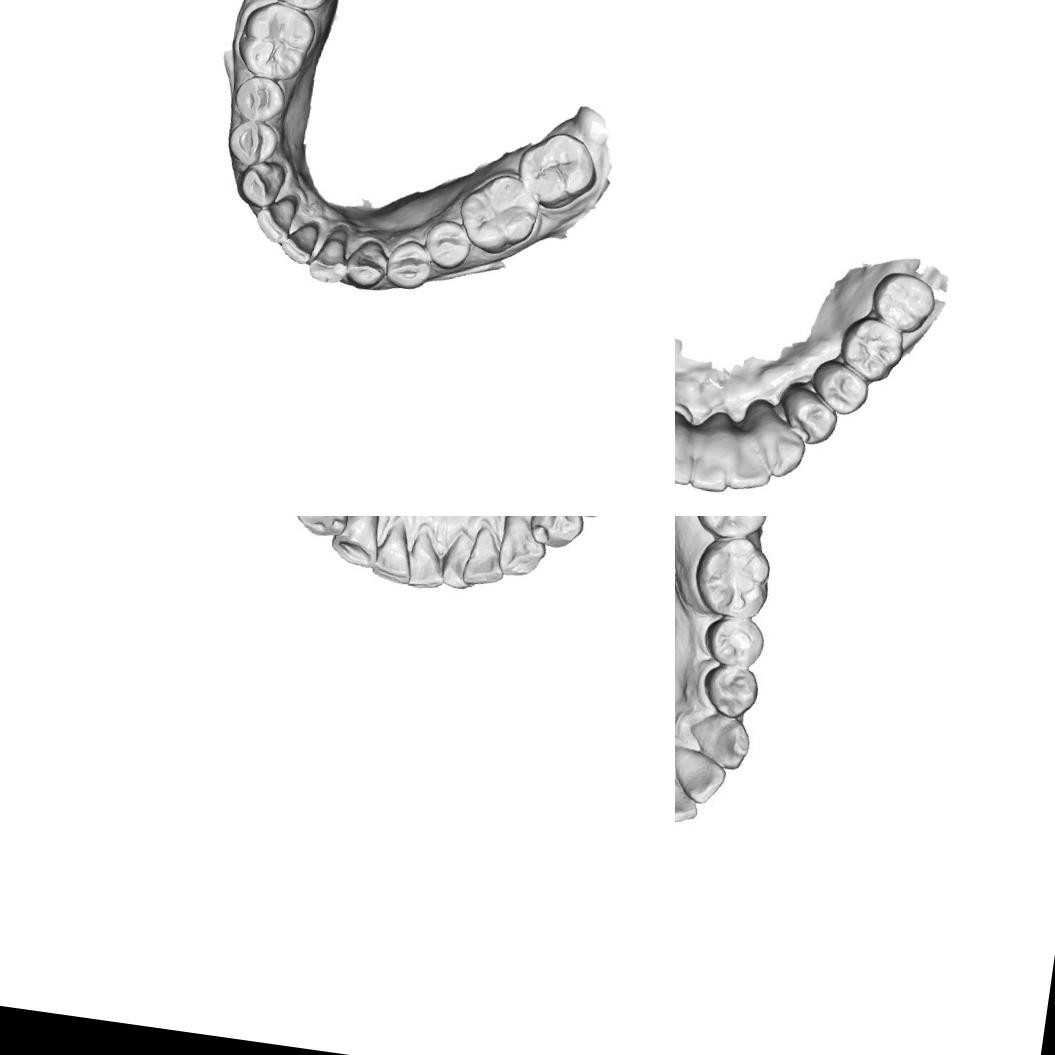canine: (743, 417, 811, 483), (687, 710, 755, 773), (493, 516, 552, 583), (326, 516, 388, 572), (236, 158, 292, 212), (345, 234, 395, 294)
incisor: (724, 418, 778, 496), (686, 422, 736, 494), (368, 520, 419, 586), (305, 220, 353, 289), (459, 525, 509, 590), (675, 747, 728, 808), (436, 524, 482, 594), (403, 528, 450, 594), (274, 214, 326, 272), (250, 192, 302, 248), (675, 409, 702, 487), (675, 763, 704, 828)
molar: (452, 168, 548, 261), (511, 126, 600, 214), (690, 534, 776, 624), (235, 0, 315, 81), (835, 312, 909, 386), (866, 266, 942, 338), (687, 516, 771, 545)
premolar: (776, 382, 842, 450), (806, 355, 874, 420), (698, 659, 764, 721), (702, 612, 765, 674), (230, 71, 290, 128), (416, 216, 474, 274), (224, 115, 280, 171), (384, 236, 434, 294), (526, 516, 590, 555), (290, 516, 357, 541)
